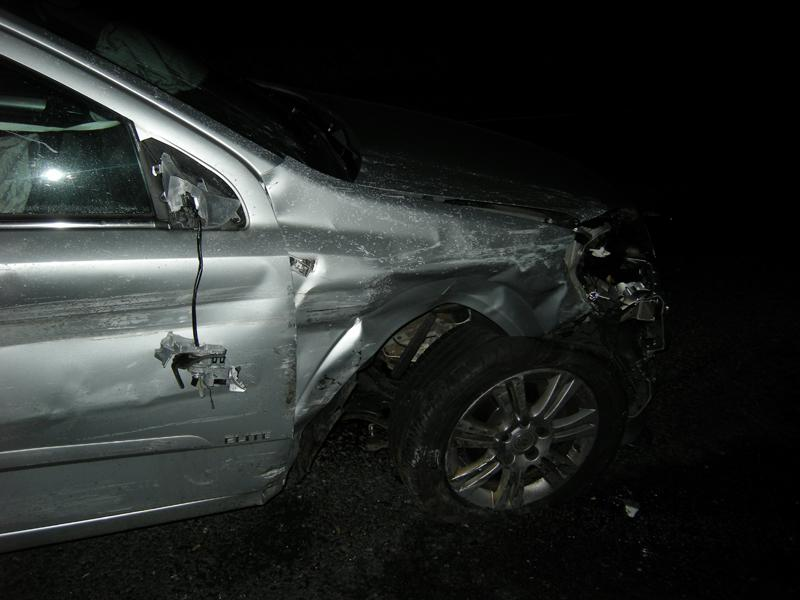doorouter-dent: (0, 222, 307, 520)
fender-dent: (267, 168, 591, 367)
